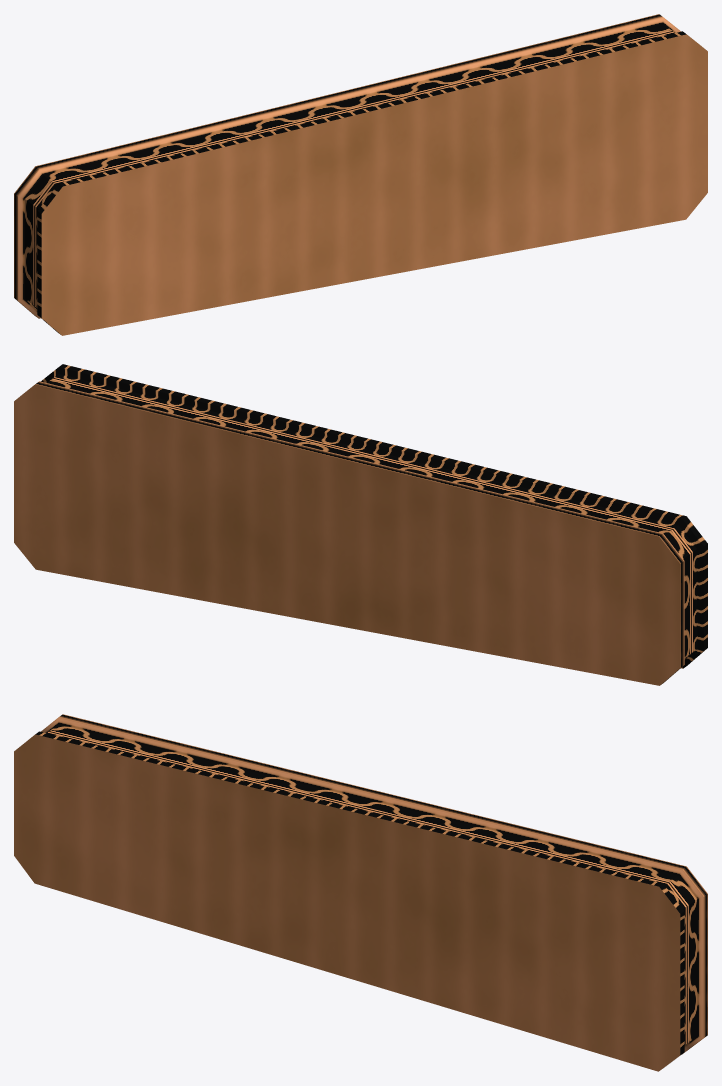
Rendered from M_ScoreboardCounter.fbx.
3 views of the same model, one above another, from view 1: azimuth 30°, elevation 25°; view 2: azimuth 150°, elevation 25°; view 3: azimuth 330°, elevation 25° (orthographic).
Parts seen in each view (by area): view 1: polySurface2, polySurface1; view 2: polySurface2, polySurface1; view 3: polySurface2, polySurface1.
Part boxes in pixels (x1,y1,x2,y2): polySurface2: (41,34,707,335); polySurface1: (14,14,686,334); polySurface2: (14,384,680,685); polySurface1: (35,364,707,684); polySurface2: (14,734,680,1071); polySurface1: (35,714,707,1055).
Size of the model in its own units: 6.84 by 1.82 by 0.4915.
